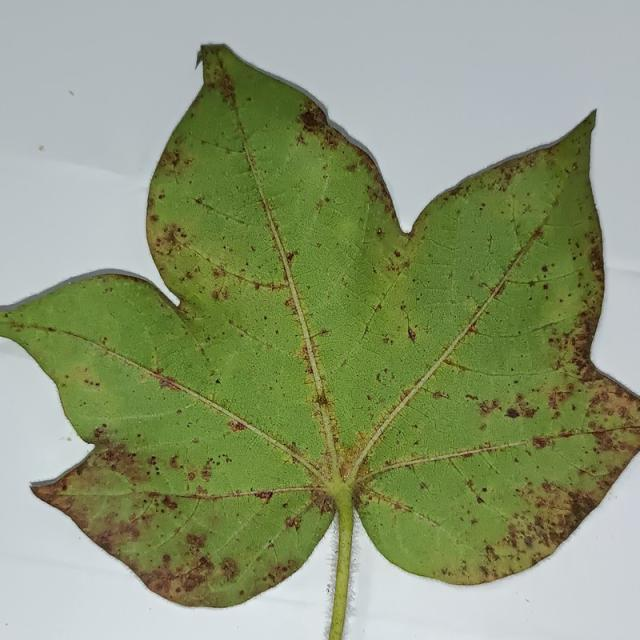Bacterial_Blight: (476, 259, 589, 343), (466, 218, 550, 311), (232, 417, 321, 475), (181, 337, 253, 400), (137, 494, 203, 557), (566, 303, 617, 380), (440, 349, 562, 381), (212, 304, 286, 353), (6, 317, 112, 350), (354, 359, 413, 413), (199, 262, 291, 292), (28, 449, 95, 487), (502, 267, 589, 293), (531, 427, 629, 448), (161, 488, 320, 500), (93, 406, 193, 423), (455, 465, 495, 507), (340, 426, 377, 469), (495, 394, 542, 420), (192, 136, 243, 159), (426, 229, 469, 256), (363, 492, 415, 514), (193, 451, 232, 477), (51, 488, 133, 499), (195, 43, 227, 70), (146, 369, 185, 390), (473, 448, 503, 475), (572, 424, 637, 436), (317, 163, 332, 212), (403, 320, 426, 351), (432, 356, 472, 373), (580, 456, 614, 476), (172, 296, 198, 322), (266, 529, 282, 569), (508, 199, 521, 245), (298, 325, 330, 342), (588, 243, 603, 278), (219, 81, 237, 106), (1, 339, 24, 356), (349, 489, 365, 511), (170, 227, 188, 246), (479, 399, 499, 416), (489, 281, 507, 299), (221, 558, 238, 577), (547, 391, 564, 410), (318, 497, 334, 515), (228, 419, 247, 432), (485, 230, 495, 254), (194, 48, 206, 68), (211, 288, 227, 302), (315, 393, 330, 407), (162, 495, 177, 509), (181, 400, 200, 411), (532, 436, 549, 448), (150, 349, 159, 370), (363, 201, 370, 228), (284, 297, 297, 311), (431, 390, 449, 400), (212, 267, 227, 279), (10, 320, 26, 331), (531, 227, 544, 240), (285, 516, 299, 528), (200, 467, 212, 480), (93, 427, 105, 438), (284, 251, 294, 264), (84, 379, 100, 387), (338, 358, 348, 369), (373, 303, 382, 313), (468, 324, 477, 334), (194, 197, 204, 206), (382, 336, 392, 345), (149, 214, 159, 223), (187, 472, 196, 481), (267, 539, 275, 549), (60, 435, 73, 441), (325, 584, 332, 595), (393, 249, 401, 258), (419, 482, 428, 490), (2, 310, 10, 319), (149, 456, 157, 464), (376, 227, 383, 236), (282, 502, 289, 509), (192, 437, 199, 444), (158, 193, 165, 200), (572, 162, 578, 170), (238, 589, 244, 596), (315, 242, 321, 248), (176, 409, 182, 415), (101, 423, 107, 429), (263, 315, 267, 320)
Cotton: (0, 46, 639, 639)
